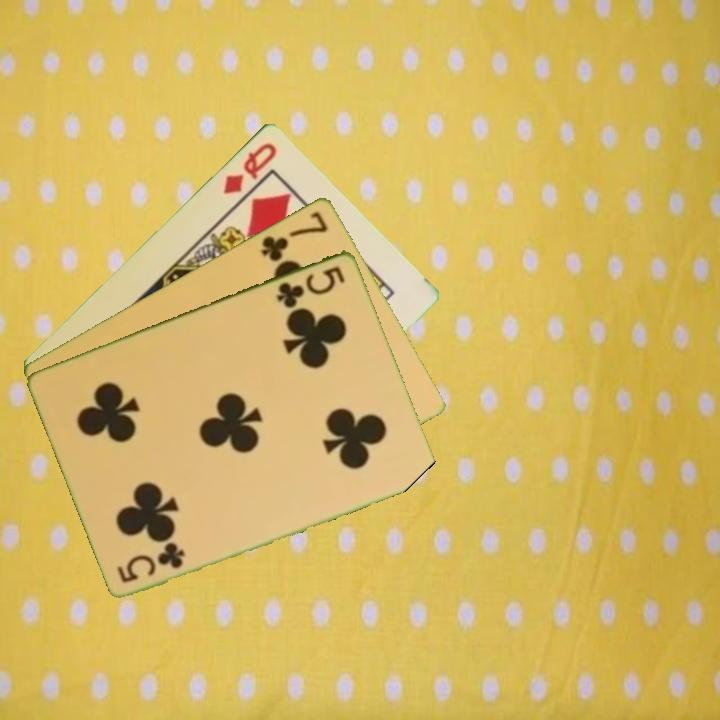5c: (273, 262, 348, 311), (114, 540, 188, 585)
7c: (258, 207, 331, 264)
Qd: (220, 138, 280, 197)
